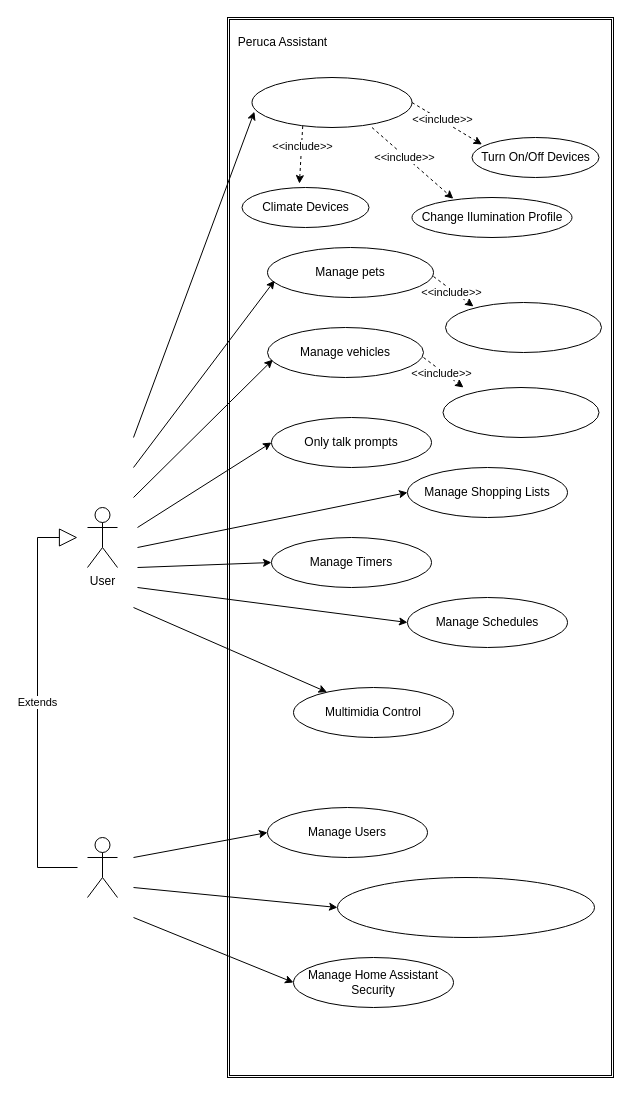
Some shapes in this 631 by 1095 pixel diagram are drawn without their labels. Here are the shapes that lost their labels. From the top down, the centre of each, then its label:
the point at 331,102: Operate Home Assistant Devices
the point at 523,327: Vaccination appointments
the point at 520,412: Maintenance Schedule
the point at 102,867: Admin
the point at 465,907: Manage Shopping List Market groups
